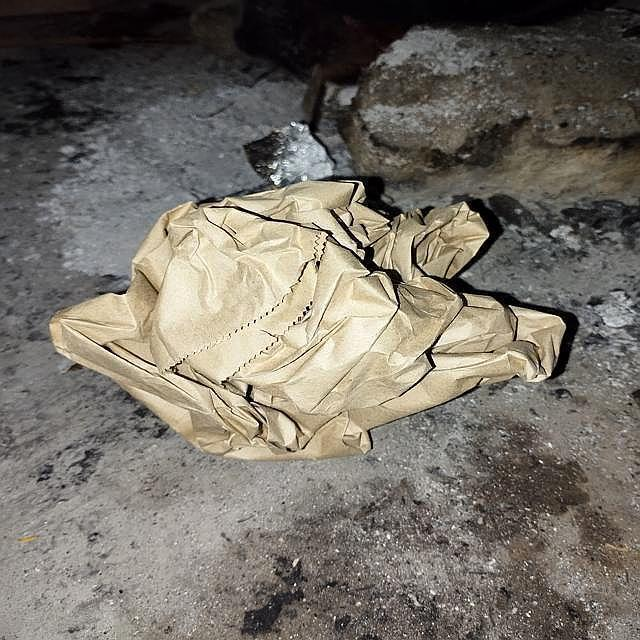Biodegradable: (50, 179, 565, 460)
